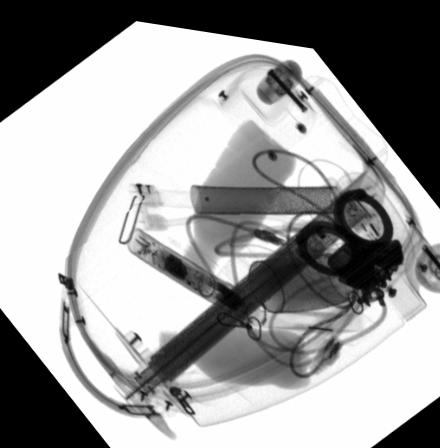Baton: (125, 223, 265, 319)
HandCuffs: (294, 172, 405, 305)
Lighter: (325, 226, 378, 278)
